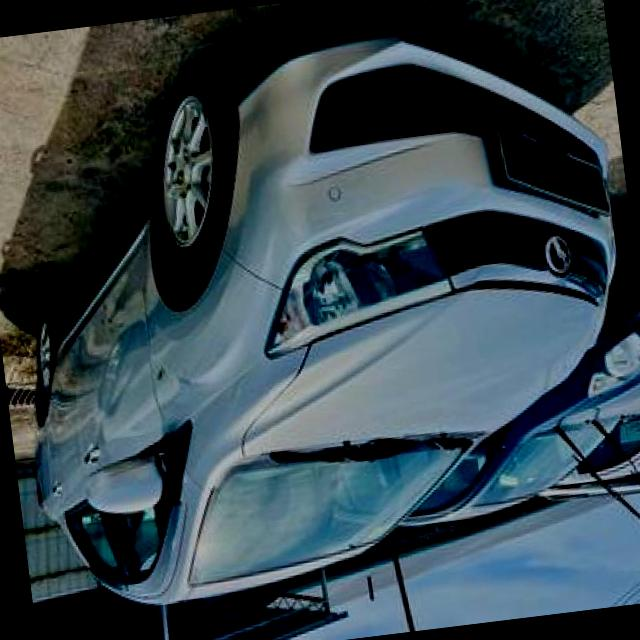PeroduaBezza: (0, 4, 640, 621)
